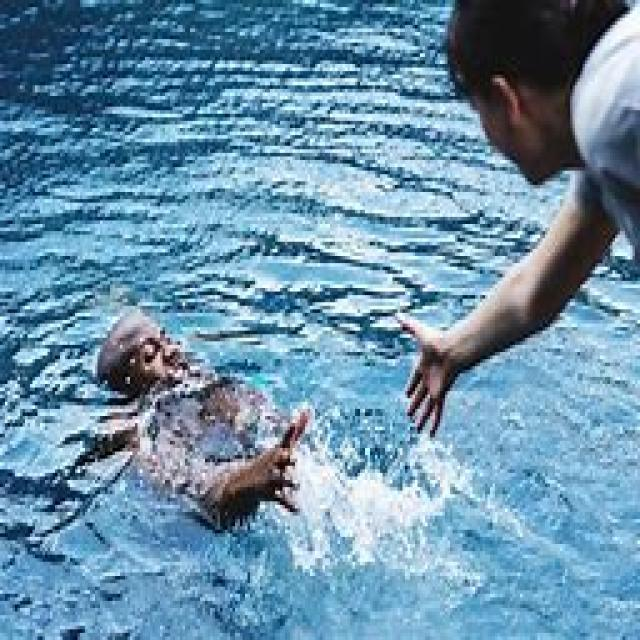Drowning: (90, 310, 332, 531)
